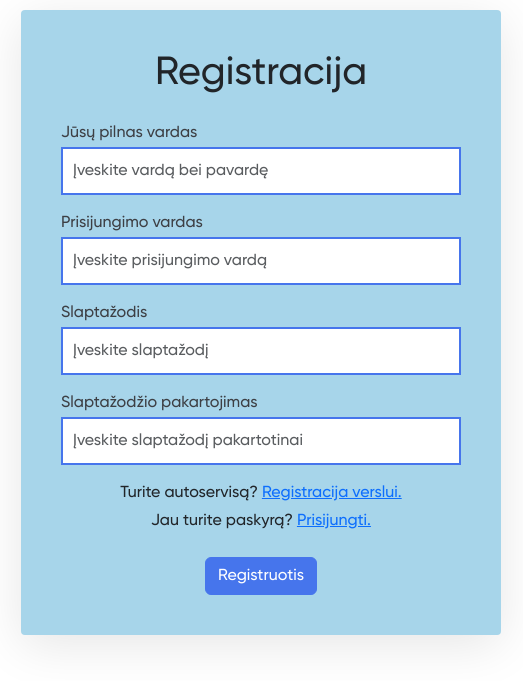
Unit tests › shows error message when full name is missing
Click the button labelled "Registruotis".
click(261, 576)  # box top-left (205, 557), bottom-right (317, 595)
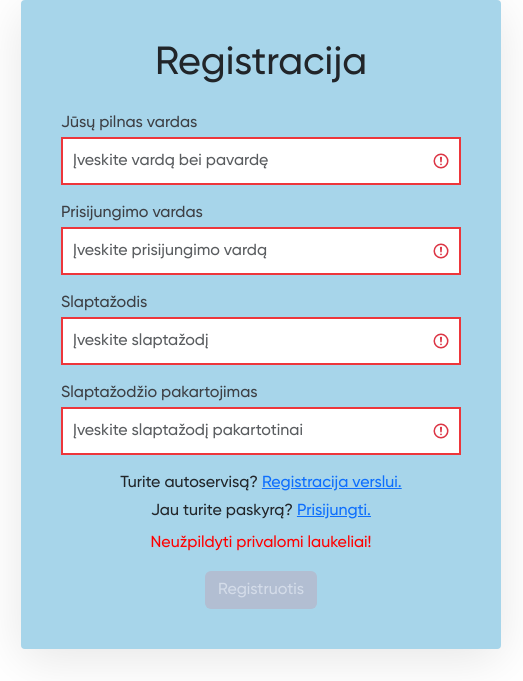
Result: the text "Neužpildyti privalomi laukeliai!" is shown at top-left (150, 535), bottom-right (372, 551)
